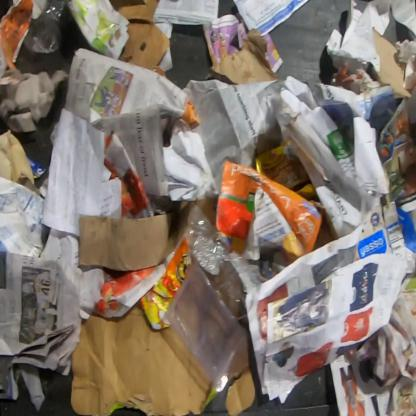cardboard: (69, 299, 219, 415), (78, 196, 218, 272), (330, 60, 404, 140), (354, 193, 415, 275), (101, 130, 155, 218), (109, 0, 171, 71), (209, 27, 282, 86), (93, 259, 167, 317), (372, 27, 413, 98), (224, 349, 256, 416), (0, 129, 36, 185)
rigid_plastic: (166, 262, 250, 384), (23, 0, 73, 54)
soft_plastic: (188, 206, 260, 325), (140, 228, 223, 330)
